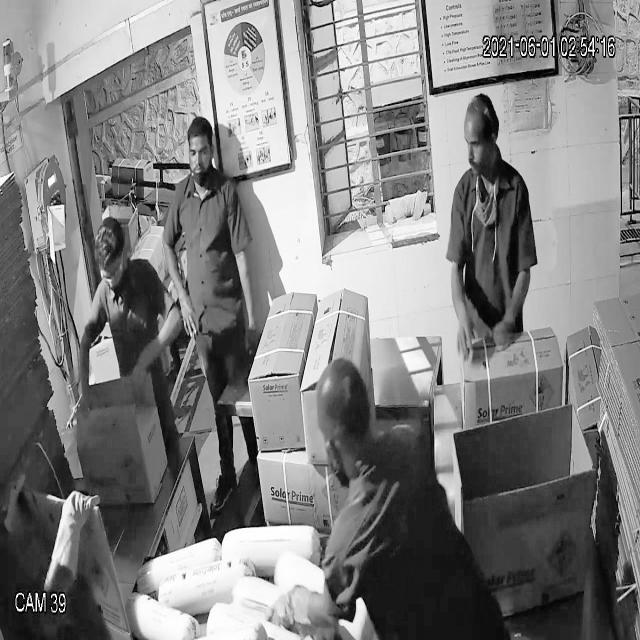glasses: (93, 259, 135, 296)
no-glass: (461, 125, 503, 163)
